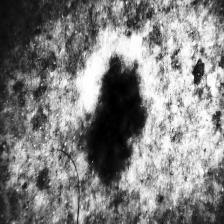Benign Marking or Mole: (85, 54, 148, 180)
